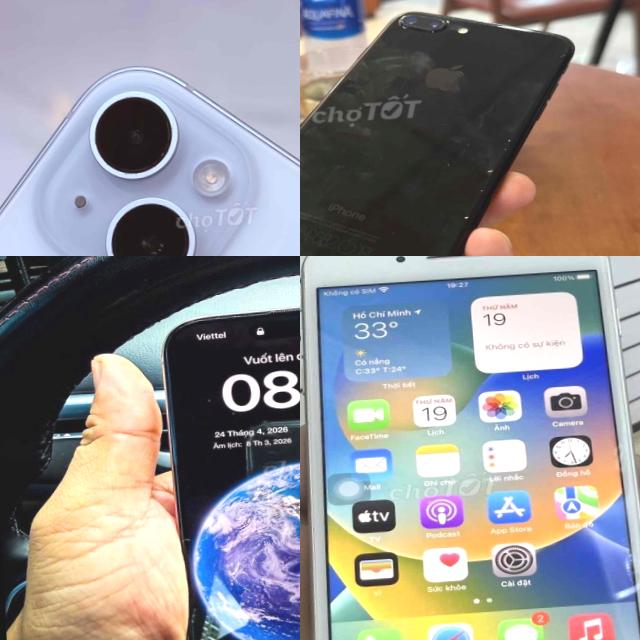gen_15: (0, 39, 300, 256)
gen_16: (164, 309, 300, 640)
gen_7_8: (300, 256, 640, 640), (300, 13, 573, 256)
